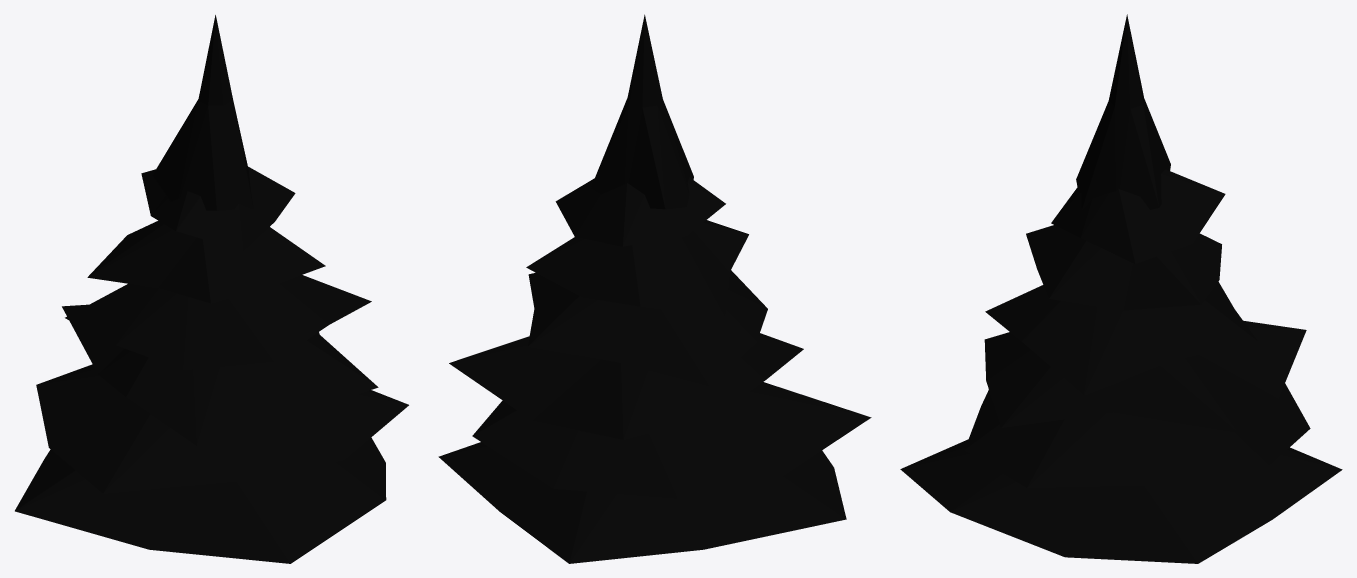
Rendered from SM_spruce_blue.fbx.
3 renders of one model, left to right at view 1: azimuth 30°, elevation 25°; view 2: azimuth 150°, elevation 25°; view 3: azimuth 270°, elevation 25°, orthographic. The views are drawn at different scales.
Parts seen in each view (by area): view 1: spruce_blue_crown; view 2: spruce_blue_crown; view 3: spruce_blue_crown.
Part boxes in pixels (x1=…): spruce_blue_crown: x1=15, y1=15, x2=408, y2=563; spruce_blue_crown: x1=438, y1=14, x2=871, y2=563; spruce_blue_crown: x1=900, y1=14, x2=1342, y2=563.
Bounding box in the file's own units: 5.38 × 7.09 × 5.43.
